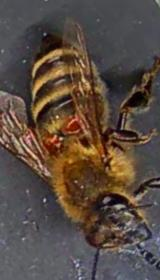varroa_mite: (61, 111, 88, 139), (42, 125, 64, 156)
